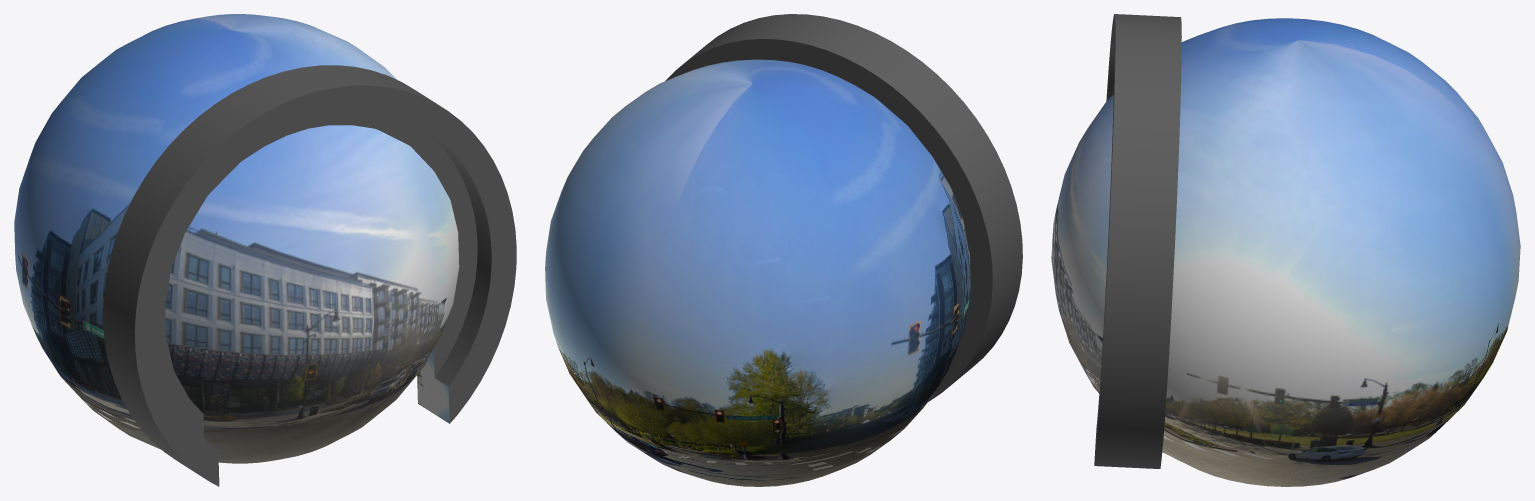
File: enter_the_portal_4_2a.glb
3 renders of one model, left to right at view 1: azimuth 30°, elevation 25°; view 2: azimuth 150°, elevation 25°; view 3: azimuth 270°, elevation 25°, orthographic. The views are drawn at different scales.
Parts seen in each view (by area): view 1: Sphere005; view 2: Sphere005; view 3: Sphere005.
Part boxes in pixels (bbox=[...]): Sphere005: bbox=[14, 14, 516, 486]; Sphere005: bbox=[545, 14, 1022, 486]; Sphere005: bbox=[1051, 14, 1520, 486].
Bounding box in the file's own units: 3.9 × 3.96 × 3.92.
2 materials, 1 textured.
